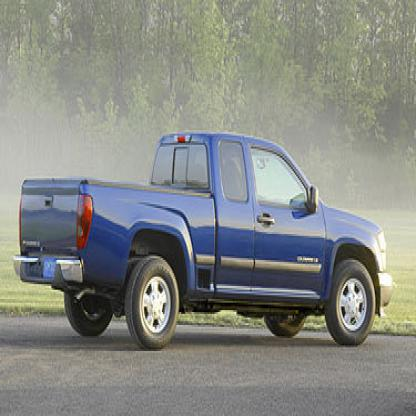car: (2, 123, 402, 353)
